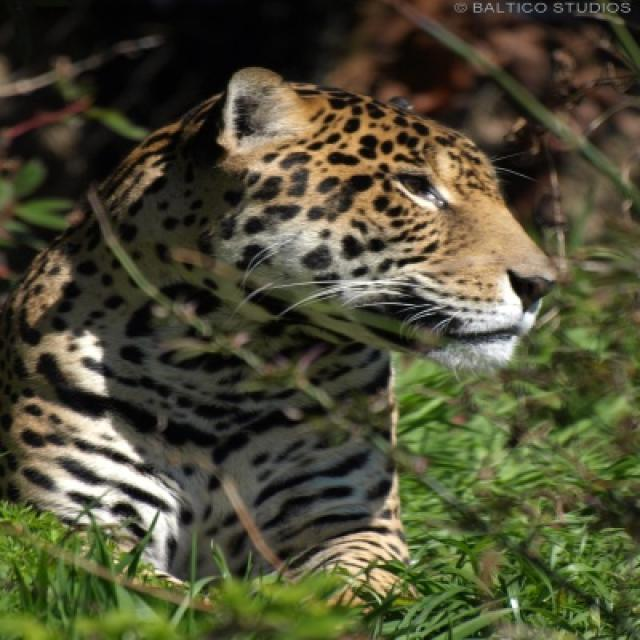Jaguar: (0, 67, 560, 621)
